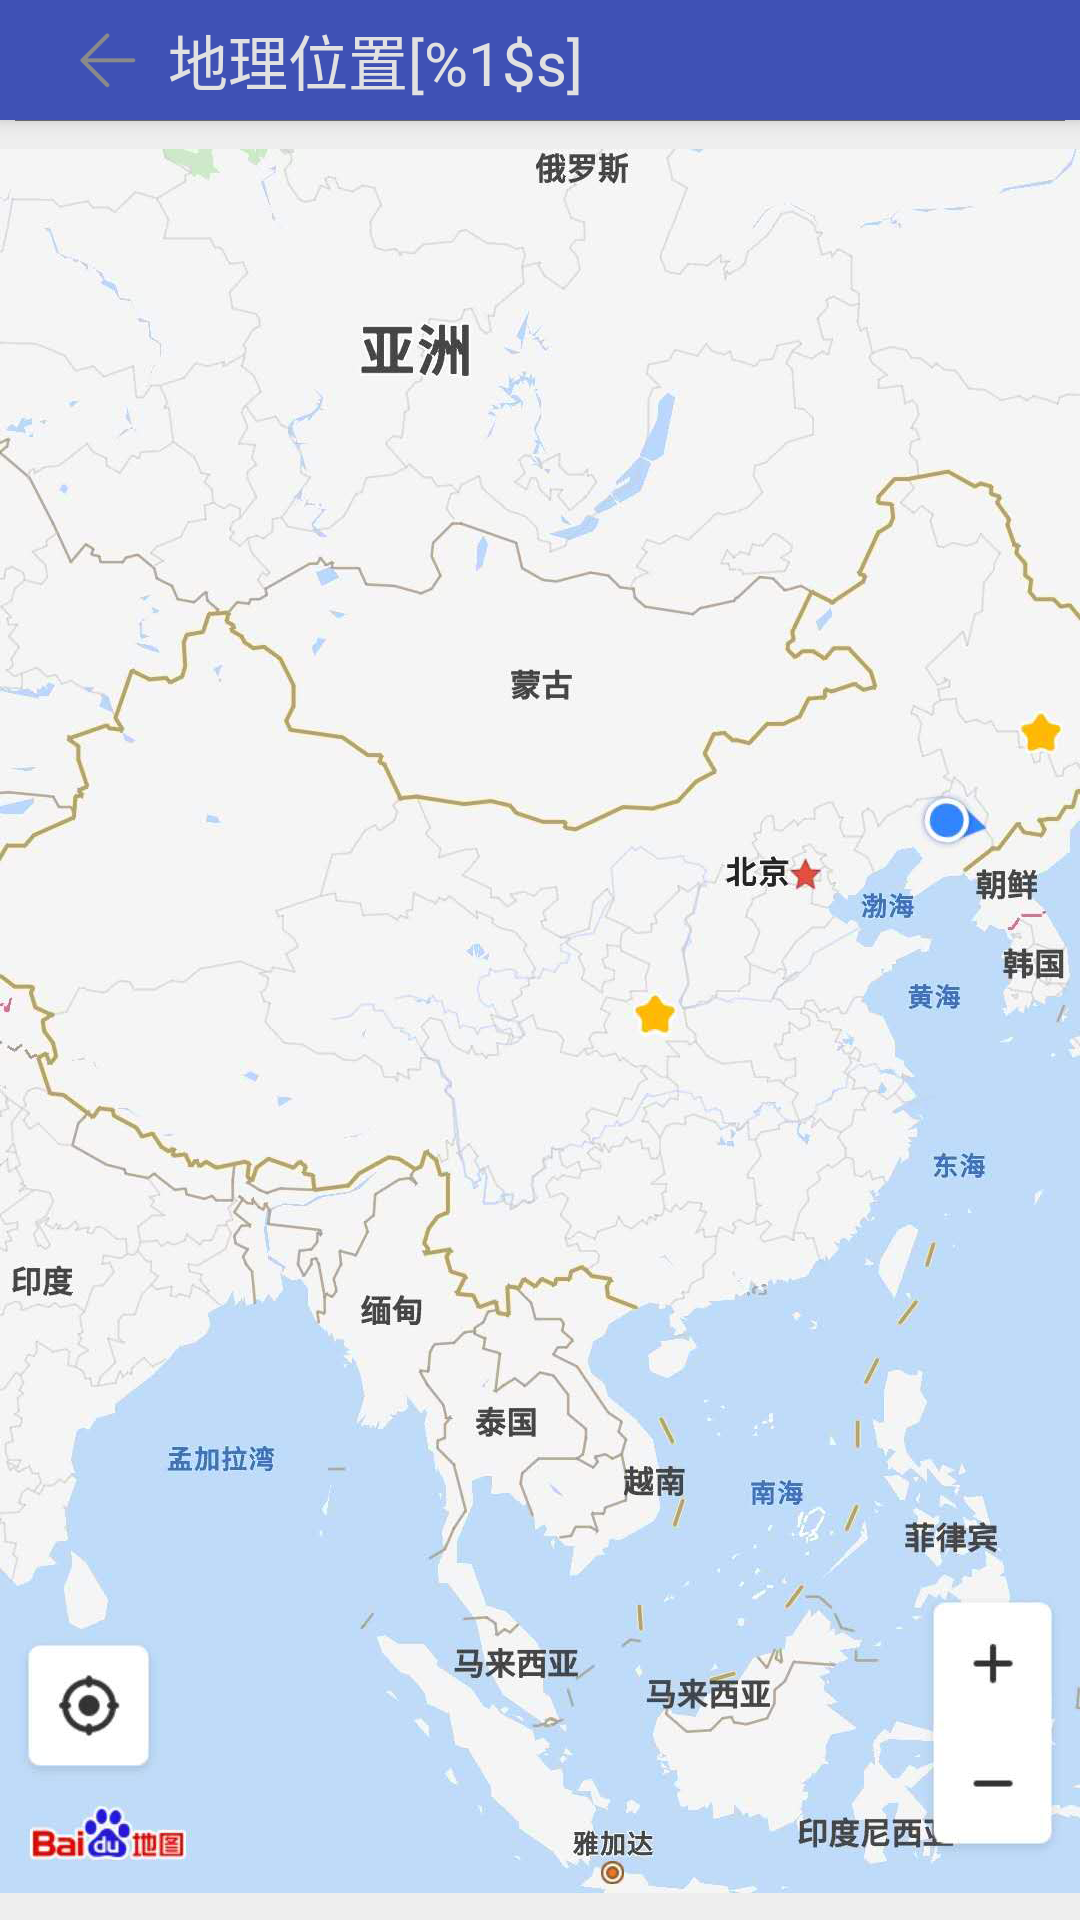

Icon click points for this 1080×1920 phone screenshot, format (x,y):
back: (107,60)
